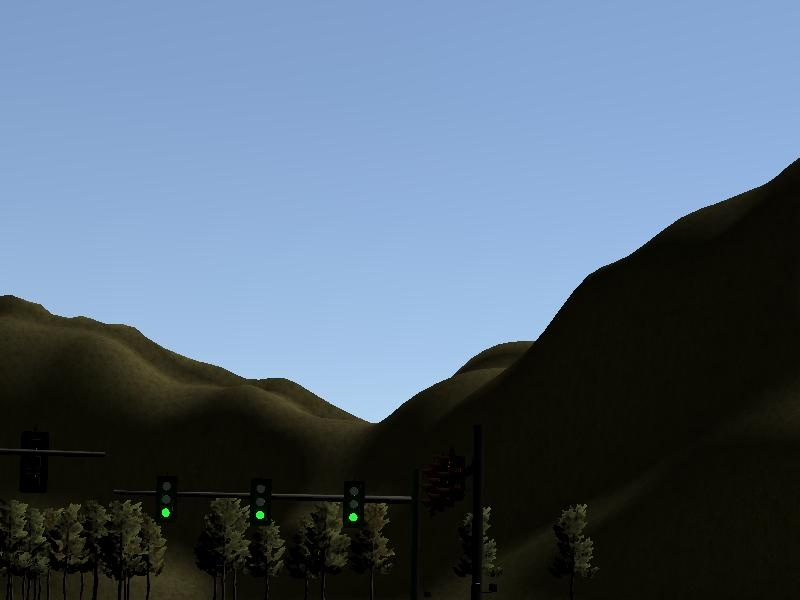GREEN: (343, 481, 363, 527), (157, 478, 176, 524), (251, 480, 270, 524)
